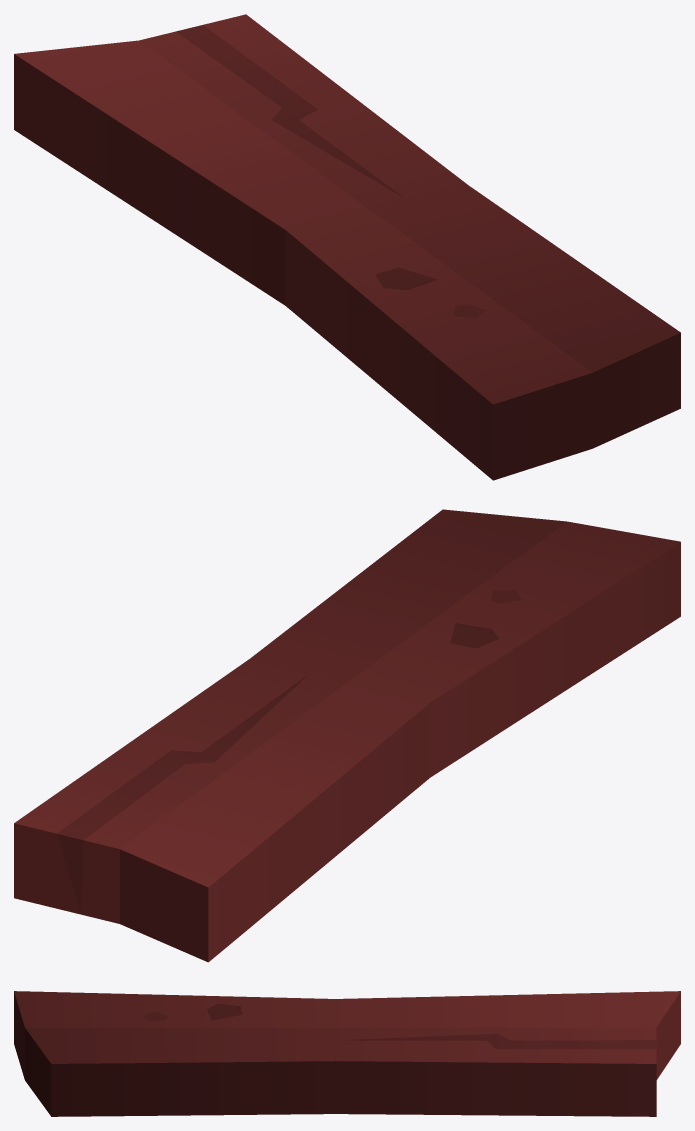
Rendered from wood_4.glb.
The picture shows the model from 3 angles, top to bottom: view 1: azimuth 30°, elevation 25°; view 2: azimuth 150°, elevation 25°; view 3: azimuth 270°, elevation 25°; orthographic projection. The views are drawn at different scales.
Parts seen in each view (by area): view 1: wood_4; view 2: wood_4; view 3: wood_4.
Boxes of the visible parts, left/top/right/bottom form: wood_4: left=14, top=14, right=680, bottom=480; wood_4: left=14, top=509, right=680, bottom=962; wood_4: left=14, top=991, right=680, bottom=1116.
Bounding box in the file's own units: 0.5298 × 0.1792 × 2.05.
Materials: 1 (1 with a texture image).
